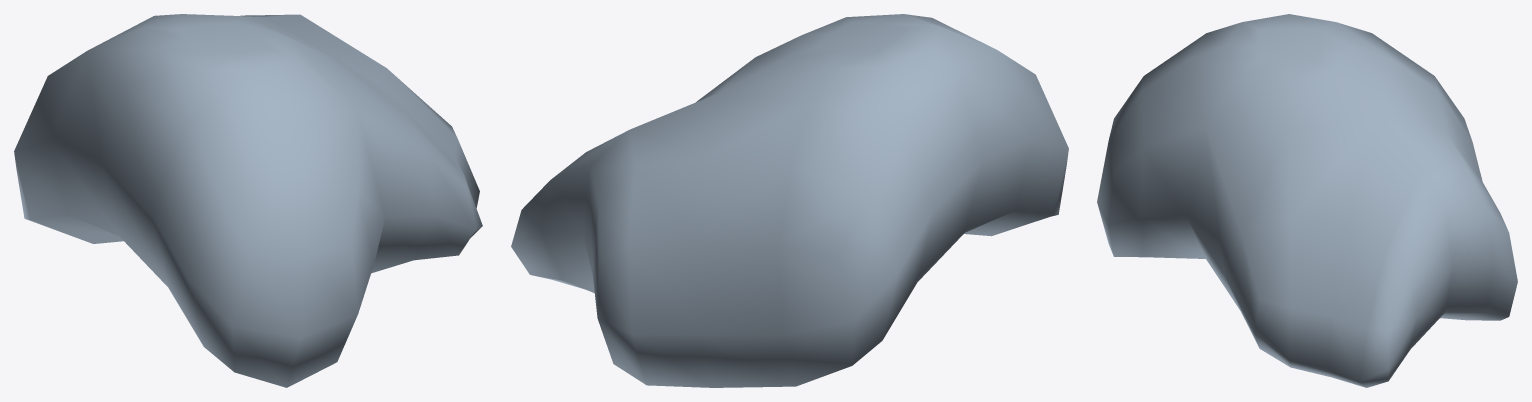
The model's file is rock2.fbx.
3 views of the same model, side by side, from view 1: azimuth 30°, elevation 25°; view 2: azimuth 150°, elevation 25°; view 3: azimuth 270°, elevation 25° (orthographic). The views are drawn at different scales.
Visible parts, largest first — view 1: Rock.002; view 2: Rock.002; view 3: Rock.002.
Boxes of the visible parts, x1,y1,x2,y2 form: Rock.002: [14, 14, 482, 387]; Rock.002: [511, 14, 1068, 387]; Rock.002: [1097, 14, 1517, 387].
Bounding box in the file's own units: 405 × 266 × 420.
